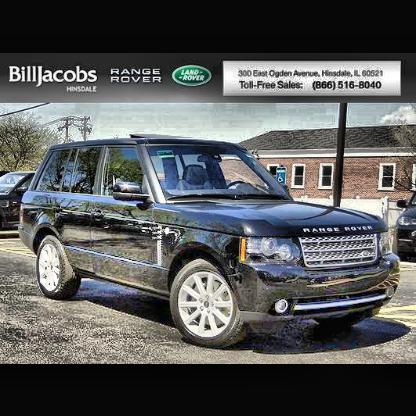Land Rover Range Rover SUV 2012: (17, 135, 403, 348)
